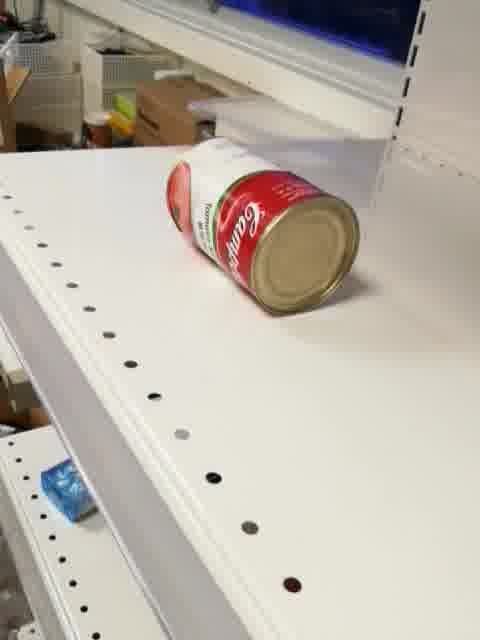tomatosoup: (164, 137, 362, 319)
